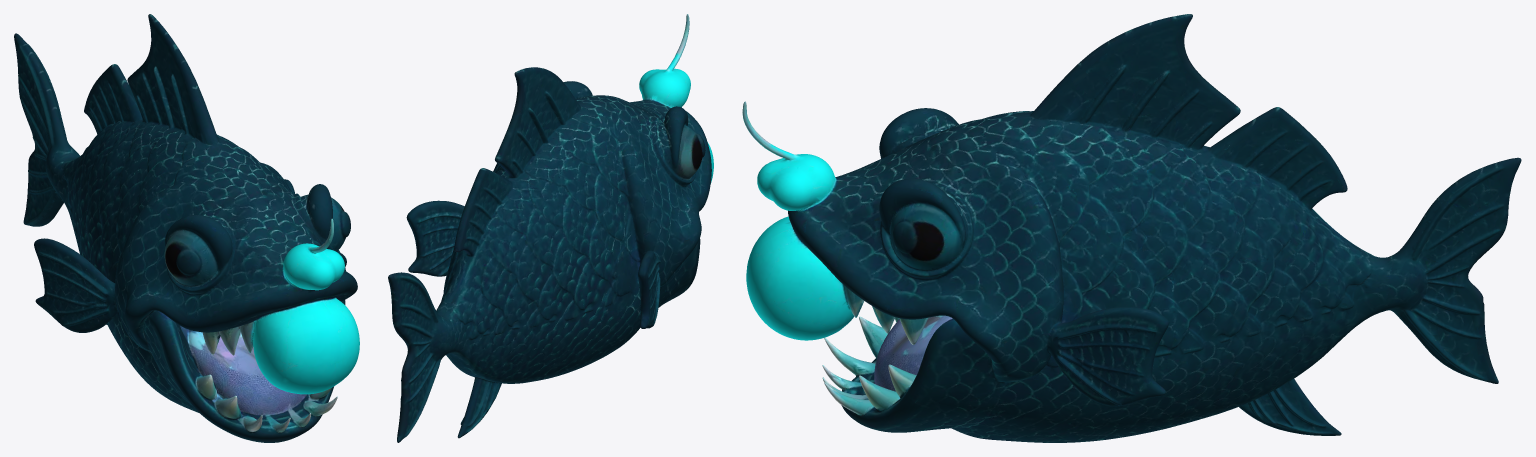
The model's file is anglerfish.glb.
The picture shows the model from 3 angles, left to right: view 1: azimuth 30°, elevation 25°; view 2: azimuth 150°, elevation 25°; view 3: azimuth 270°, elevation 25°; orthographic projection. The views are drawn at different scales.
Bounding box in the file's own units: 0.8745 × 1.13 × 1.9.
Materials: 1 (1 with a texture image).
